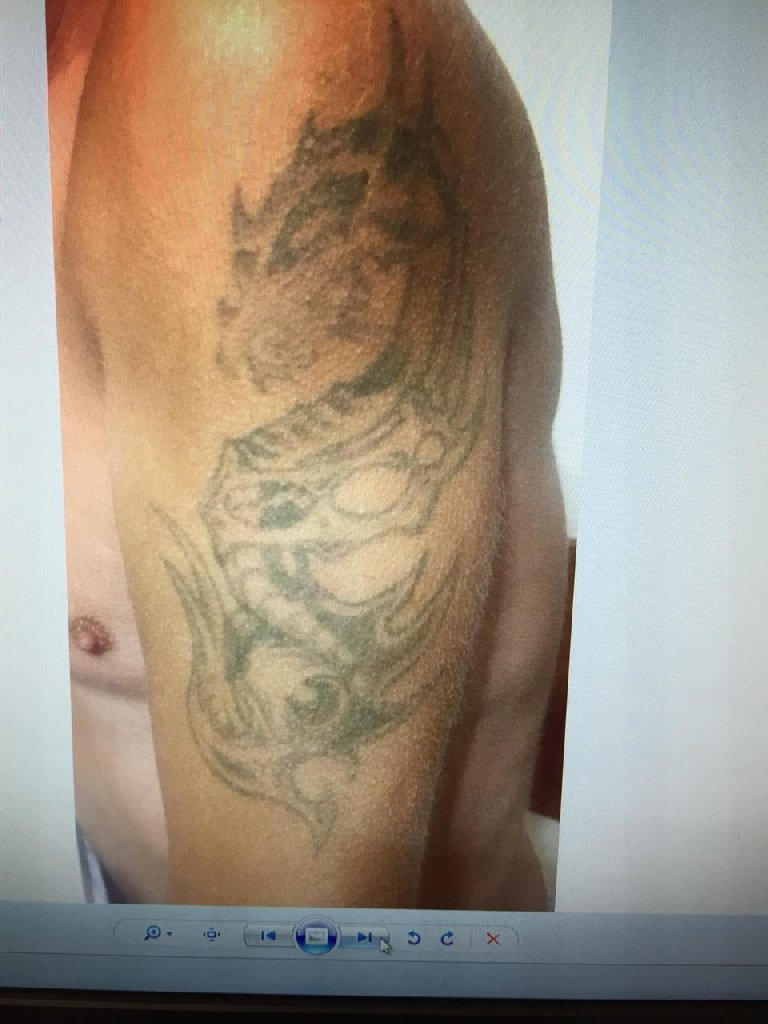tatu6_drakon: (164, 6, 532, 855)
